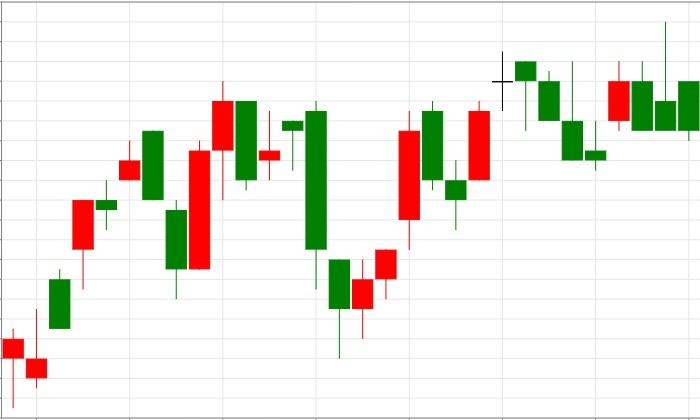bearish_engulfing_fall: (25, 131, 164, 388)
hanging_man_fall: (445, 51, 536, 230)
three_black_crows_fall: (445, 51, 584, 230)
three_white_soldiers_rise: (282, 100, 421, 359)
